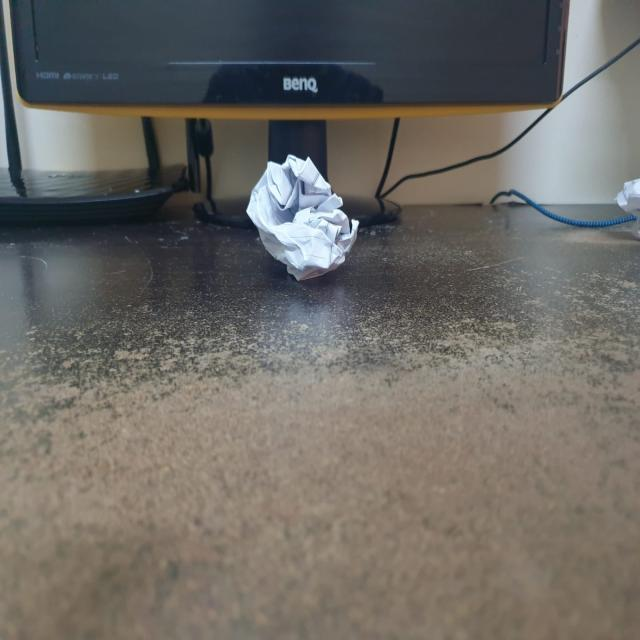Paper: (245, 155, 361, 277)
